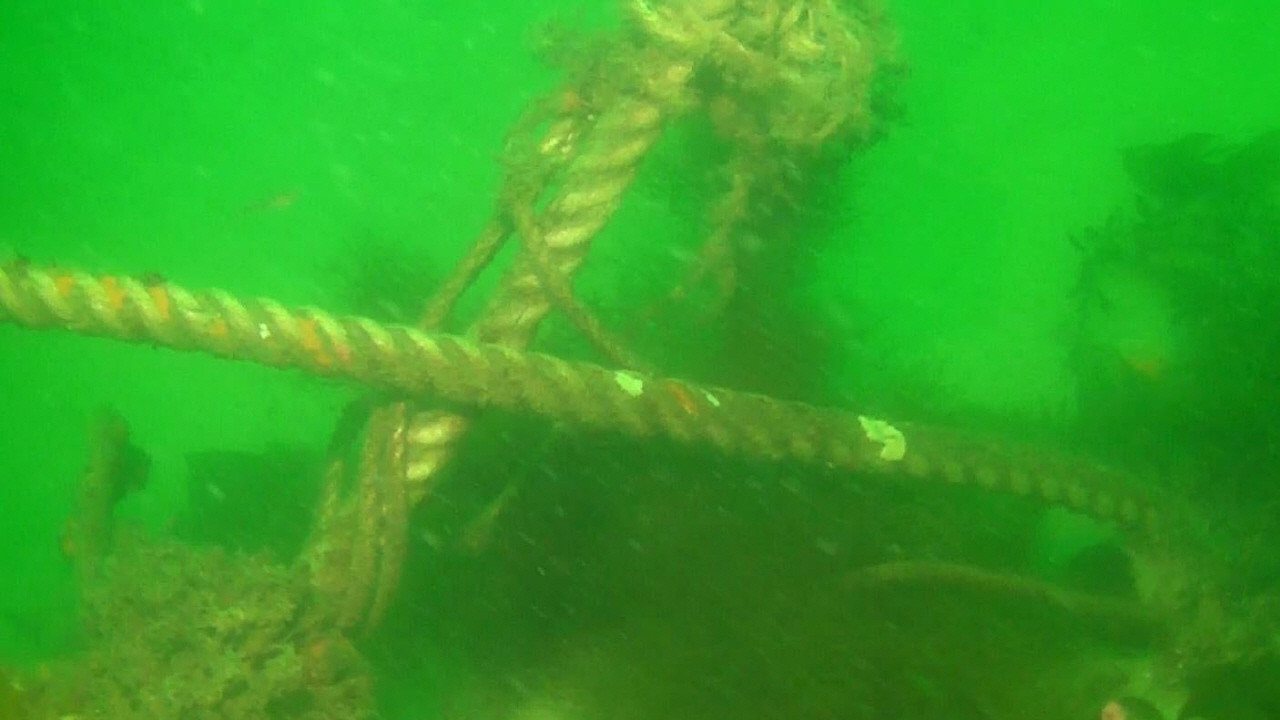bundle of ropes: (296, 1, 749, 571)
rope: (0, 266, 1164, 540)
